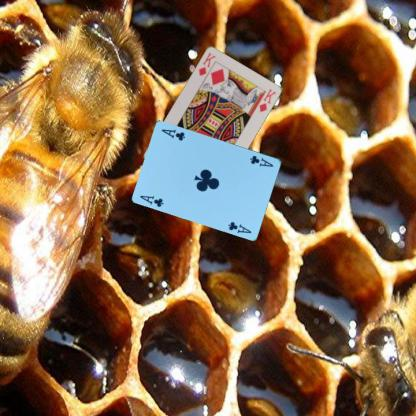Ac: (138, 192, 165, 208), (247, 153, 274, 168)
Kd: (196, 50, 217, 77)
